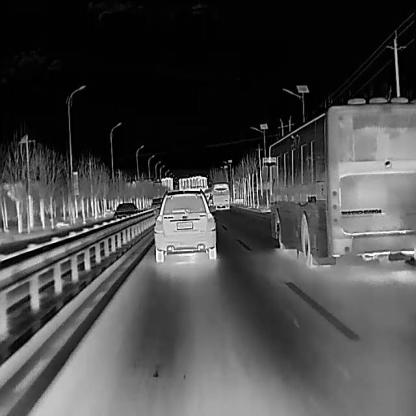bus: (261, 102, 415, 268), (209, 181, 228, 209)
car: (153, 186, 216, 262), (110, 200, 138, 223), (150, 196, 163, 212)
